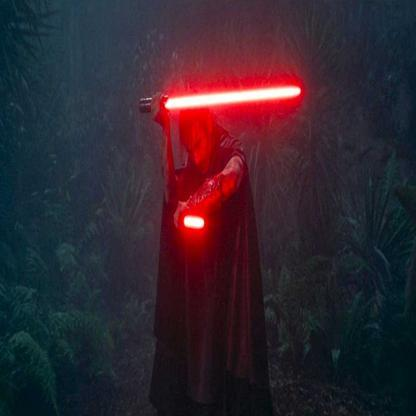sith_lightsaber: (127, 79, 315, 117), (174, 211, 210, 234)
